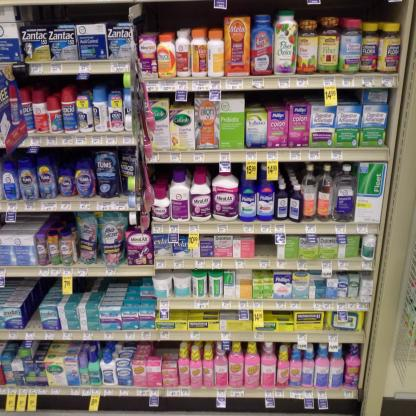empty_space: (257, 234, 275, 257), (28, 316, 41, 327)
